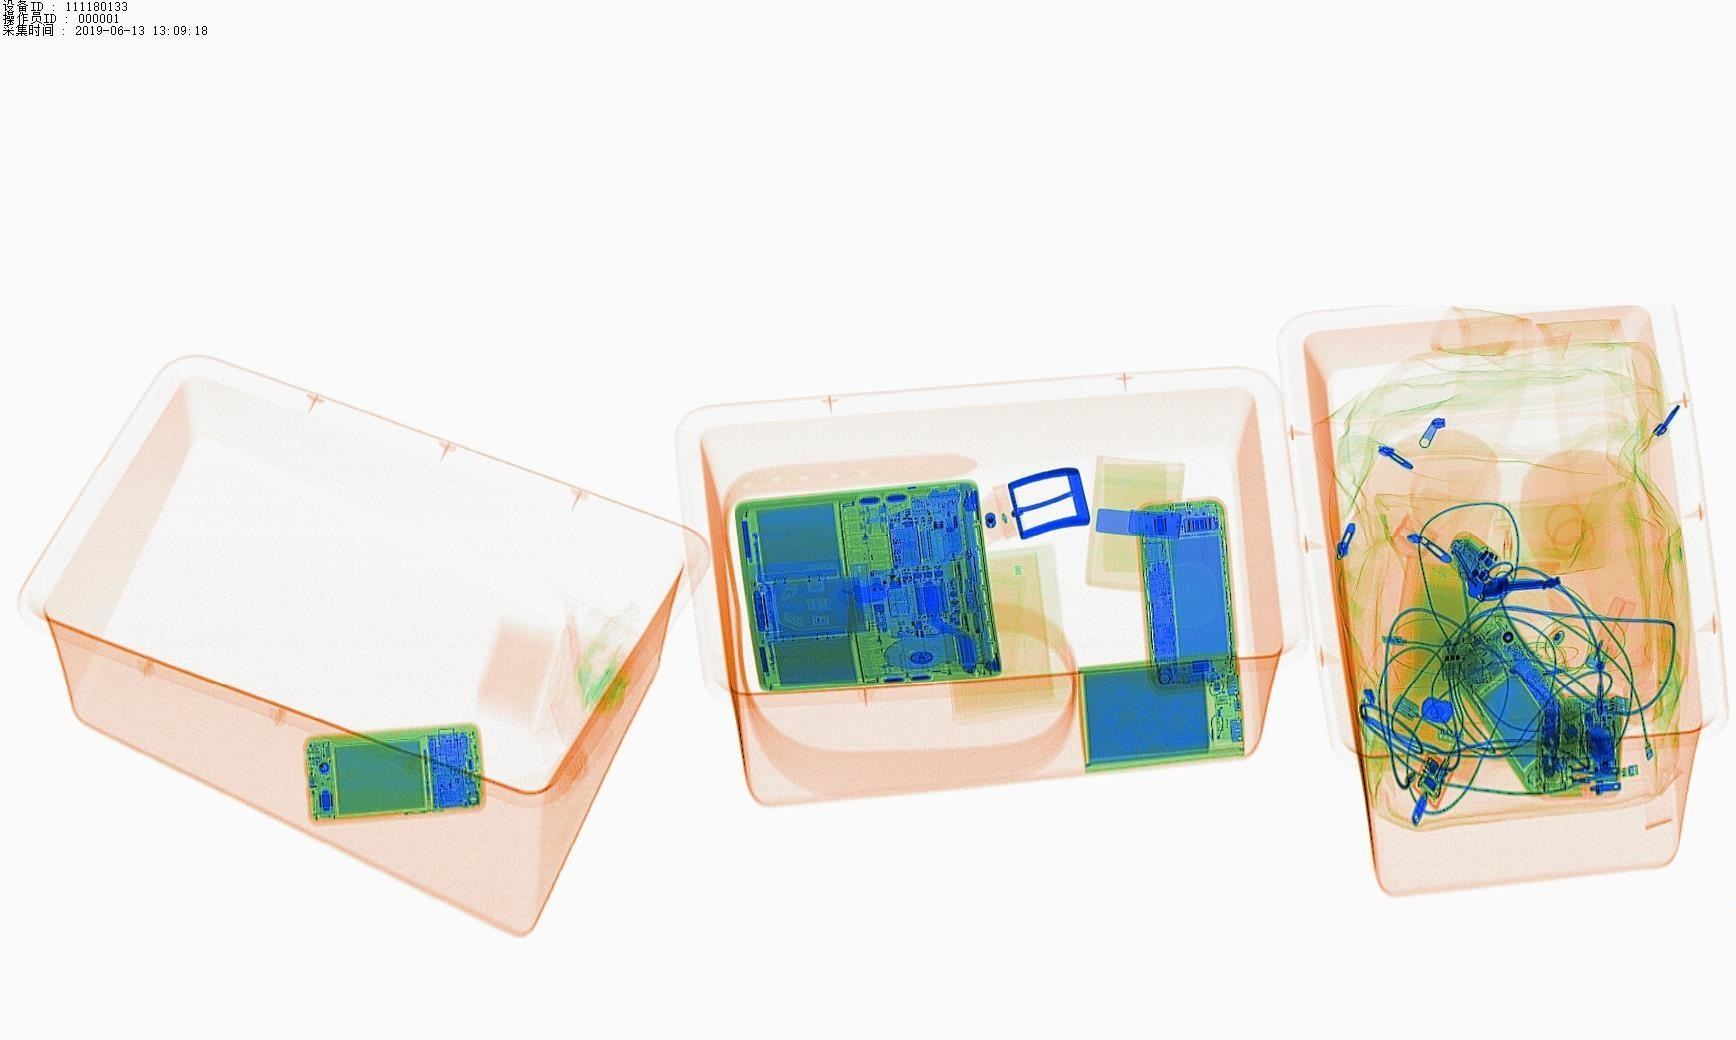NonmetallicFire: (1587, 583, 1641, 693)
